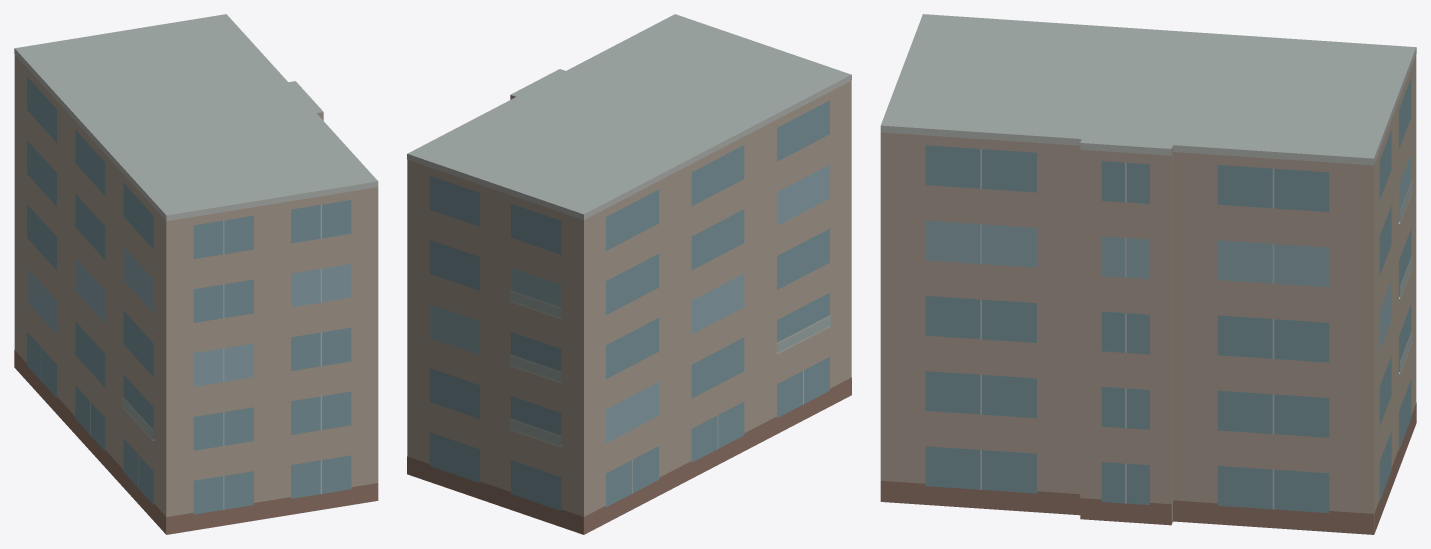
Rendered from survey-upis-33002419.glb.
3 views of the same model, side by side, from view 1: azimuth 30°, elevation 25°; view 2: azimuth 150°, elevation 25°; view 3: azimuth 270°, elevation 25° (orthographic). The views are drawn at different scales.
Visible parts, largest first — view 1: survey-upis-33002419.tmp; view 2: survey-upis-33002419.tmp; view 3: survey-upis-33002419.tmp.
Boxes of the visible parts, x1,y1,x2,y2 form: survey-upis-33002419.tmp: (14,14,378,534); survey-upis-33002419.tmp: (407,14,851,534); survey-upis-33002419.tmp: (880,14,1416,534).
Bounding box in the file's own units: 11.14 × 13.5 × 17.43.
